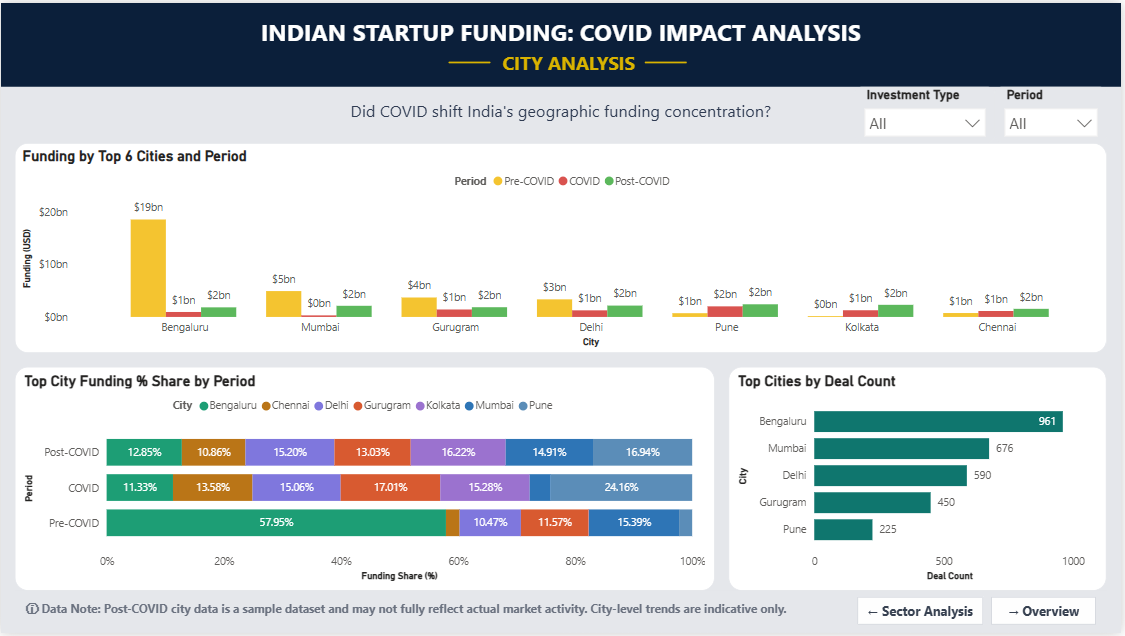

Layout of this report page (visuals, bound fields, positions):
{"tool":"powerbi","page":{"name":"City Analysis","canvas":[1280,720],"ordinal":2},"visuals":[{"type":"shape","title":"INDIAN STARTUP ECOSYSTEM: COVID IMPACT ANALYSIS","box":[0,0,1280,96],"z":0},{"type":"textbox","box":[0,10,1280,48],"z":1000},{"type":"textbox","box":[0,48,1280,48],"z":2000},{"type":"shape","box":[736,48,48,32],"z":3000},{"type":"shape","box":[512,48,48,32],"z":4000},{"type":"textbox","box":[0,96,1280,48],"z":5000},{"type":"clusteredColumnChart","title":"Funding by Top 6 Cities and Period","fields":{"Category":["cleaned_startup_funding_data.city"],"Series":["cleaned_startup_funding_data.period"],"Y":["cleaned_startup_funding_data.total_fundings"]},"box":[16,160,1248,240],"z":6000},{"type":"hundredPercentStackedBarChart","title":"Top City Funding % Share by Period","fields":{"Category":["cleaned_startup_funding_data.period"],"Series":["cleaned_startup_funding_data.city"],"Y":["cleaned_startup_funding_data.total_fundings"]},"box":[16,416,800,256],"z":7000},{"type":"clusteredBarChart","title":"Top Cities by Deal Count","fields":{"Y":["cleaned_startup_funding_data.total_deals"],"Category":["cleaned_startup_funding_data.city"]},"box":[832,416,432,256],"z":8000},{"type":"slicer","fields":{"Values":["cleaned_startup_funding_data.period"]},"box":[1136,96,128,64],"z":9000},{"type":"slicer","fields":{"Values":["cleaned_startup_funding_data.investment_type"]},"box":[976,96,160,64],"z":10000},{"type":"textbox","box":[16,672,1248,48],"z":11000},{"type":"actionButton","title":"Sector Analysis","box":[1132,679,120,32],"z":12000},{"type":"actionButton","title":"Sector Analysis","box":[978,679,144,32],"z":12001}]}

Visuals, with their boxes in screenshot pixels (x1, y1, x2, y2), scaled from the page's 1280x720 canvas onto the 1125x636 screenshot:
"INDIAN STARTUP ECOSYSTEM: COVID IMPACT ANALYSIS" shape: region(0, 0, 1124, 85)
textbox: region(0, 9, 1124, 51)
textbox: region(0, 42, 1124, 85)
shape: region(647, 42, 689, 71)
shape: region(450, 42, 492, 71)
textbox: region(0, 85, 1124, 127)
"Funding by Top 6 Cities and Period" clusteredColumnChart: region(14, 141, 1111, 353)
"Top City Funding % Share by Period" hundredPercentStackedBarChart: region(14, 367, 717, 594)
"Top Cities by Deal Count" clusteredBarChart: region(731, 367, 1111, 594)
slicer - cleaned_startup_funding_data.period: region(998, 85, 1111, 141)
slicer - cleaned_startup_funding_data.investment_type: region(858, 85, 998, 141)
textbox: region(14, 594, 1111, 635)
"Sector Analysis" actionButton: region(995, 600, 1100, 628)
"Sector Analysis" actionButton: region(860, 600, 986, 628)
